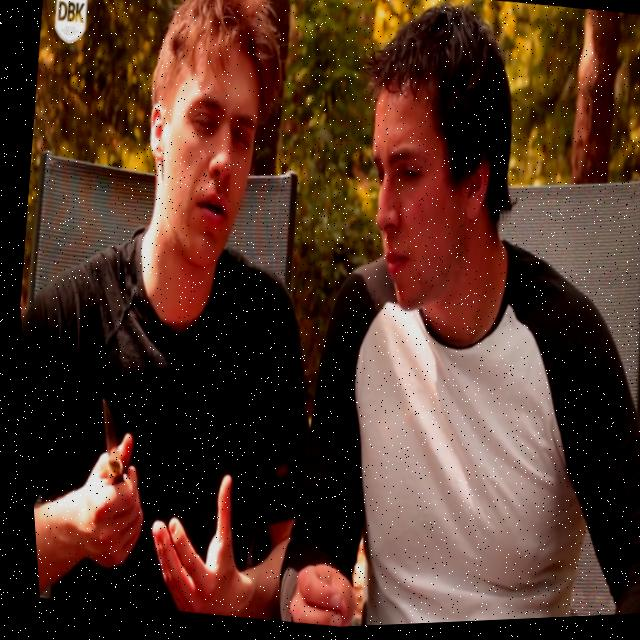knife: (81, 388, 130, 484)
